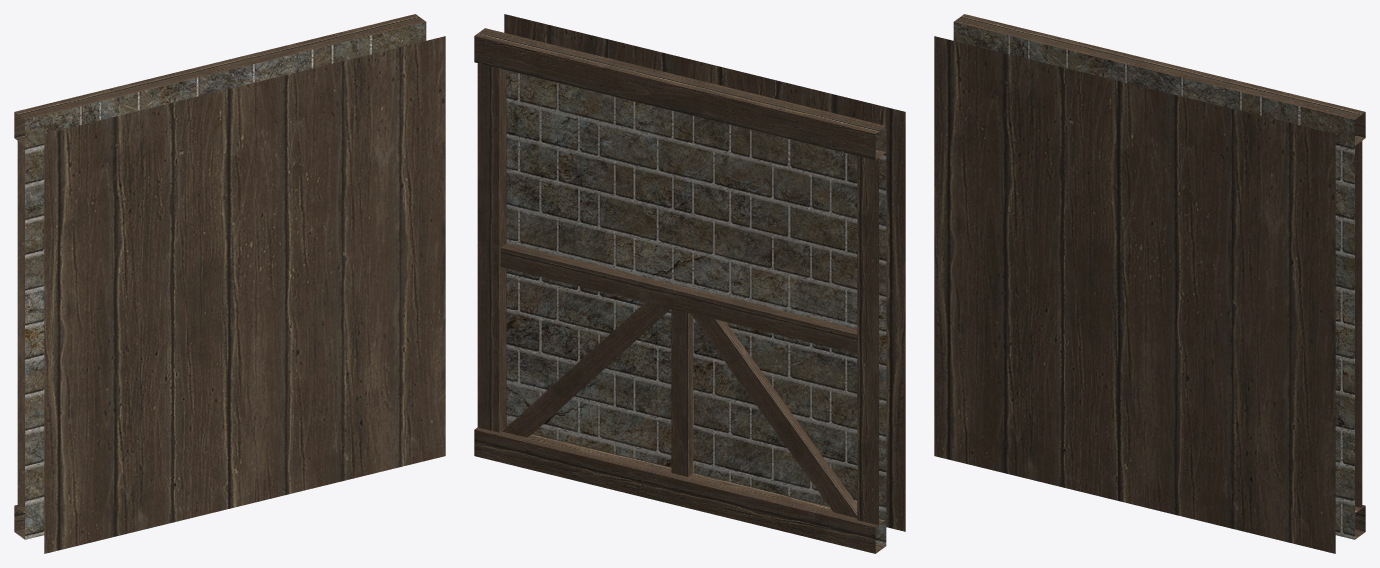
File: ARC1010215.fbx
The picture shows the model from 3 angles, left to right: view 1: azimuth 30°, elevation 25°; view 2: azimuth 150°, elevation 25°; view 3: azimuth 330°, elevation 25°; orthographic projection.
Visible parts, largest first — view 1: smARC1010215; view 2: smARC1010215; view 3: smARC1010215.
Part boxes in pixels (bbox=[...]): smARC1010215: bbox=[14, 14, 445, 553]; smARC1010215: bbox=[474, 14, 905, 553]; smARC1010215: bbox=[934, 14, 1365, 553].
Bounding box in the file's own units: 268 × 268 × 34.9.
1 material, 1 textured.
